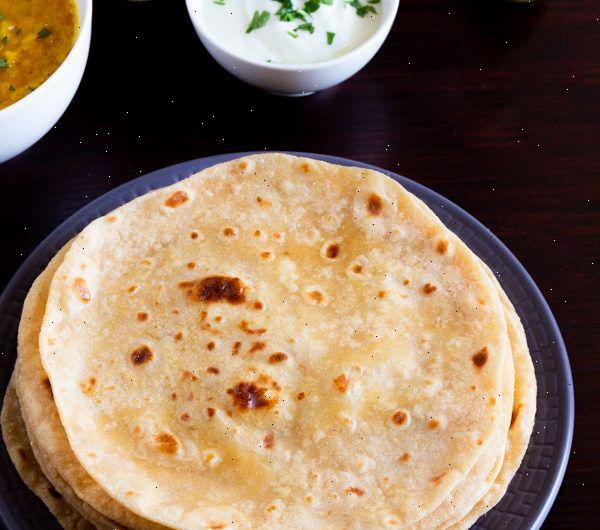roti phulka: (3, 152, 538, 530)
